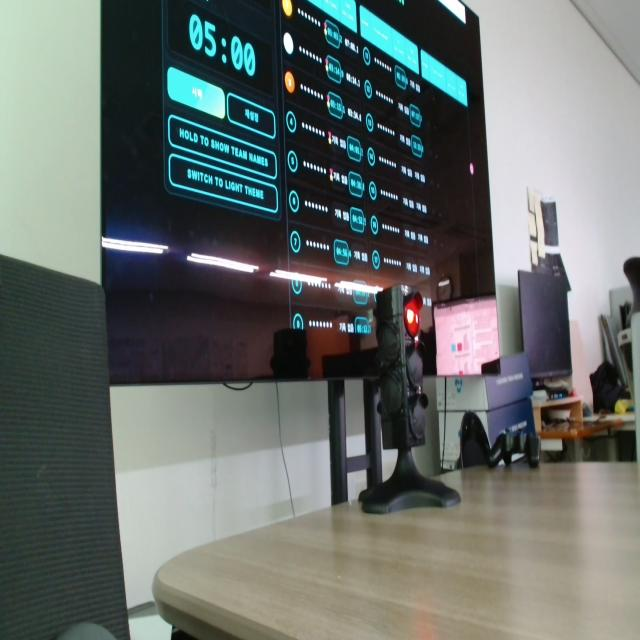red_light: (405, 293, 423, 338)
